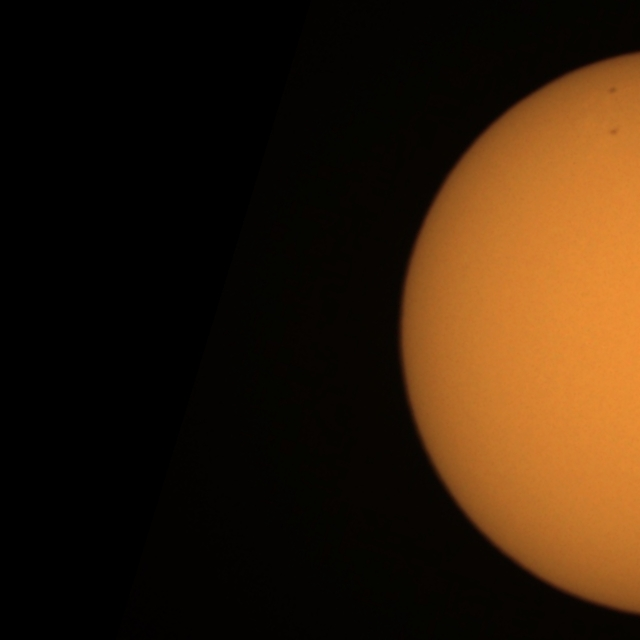sunspot: (608, 126, 620, 138), (607, 85, 618, 96)
